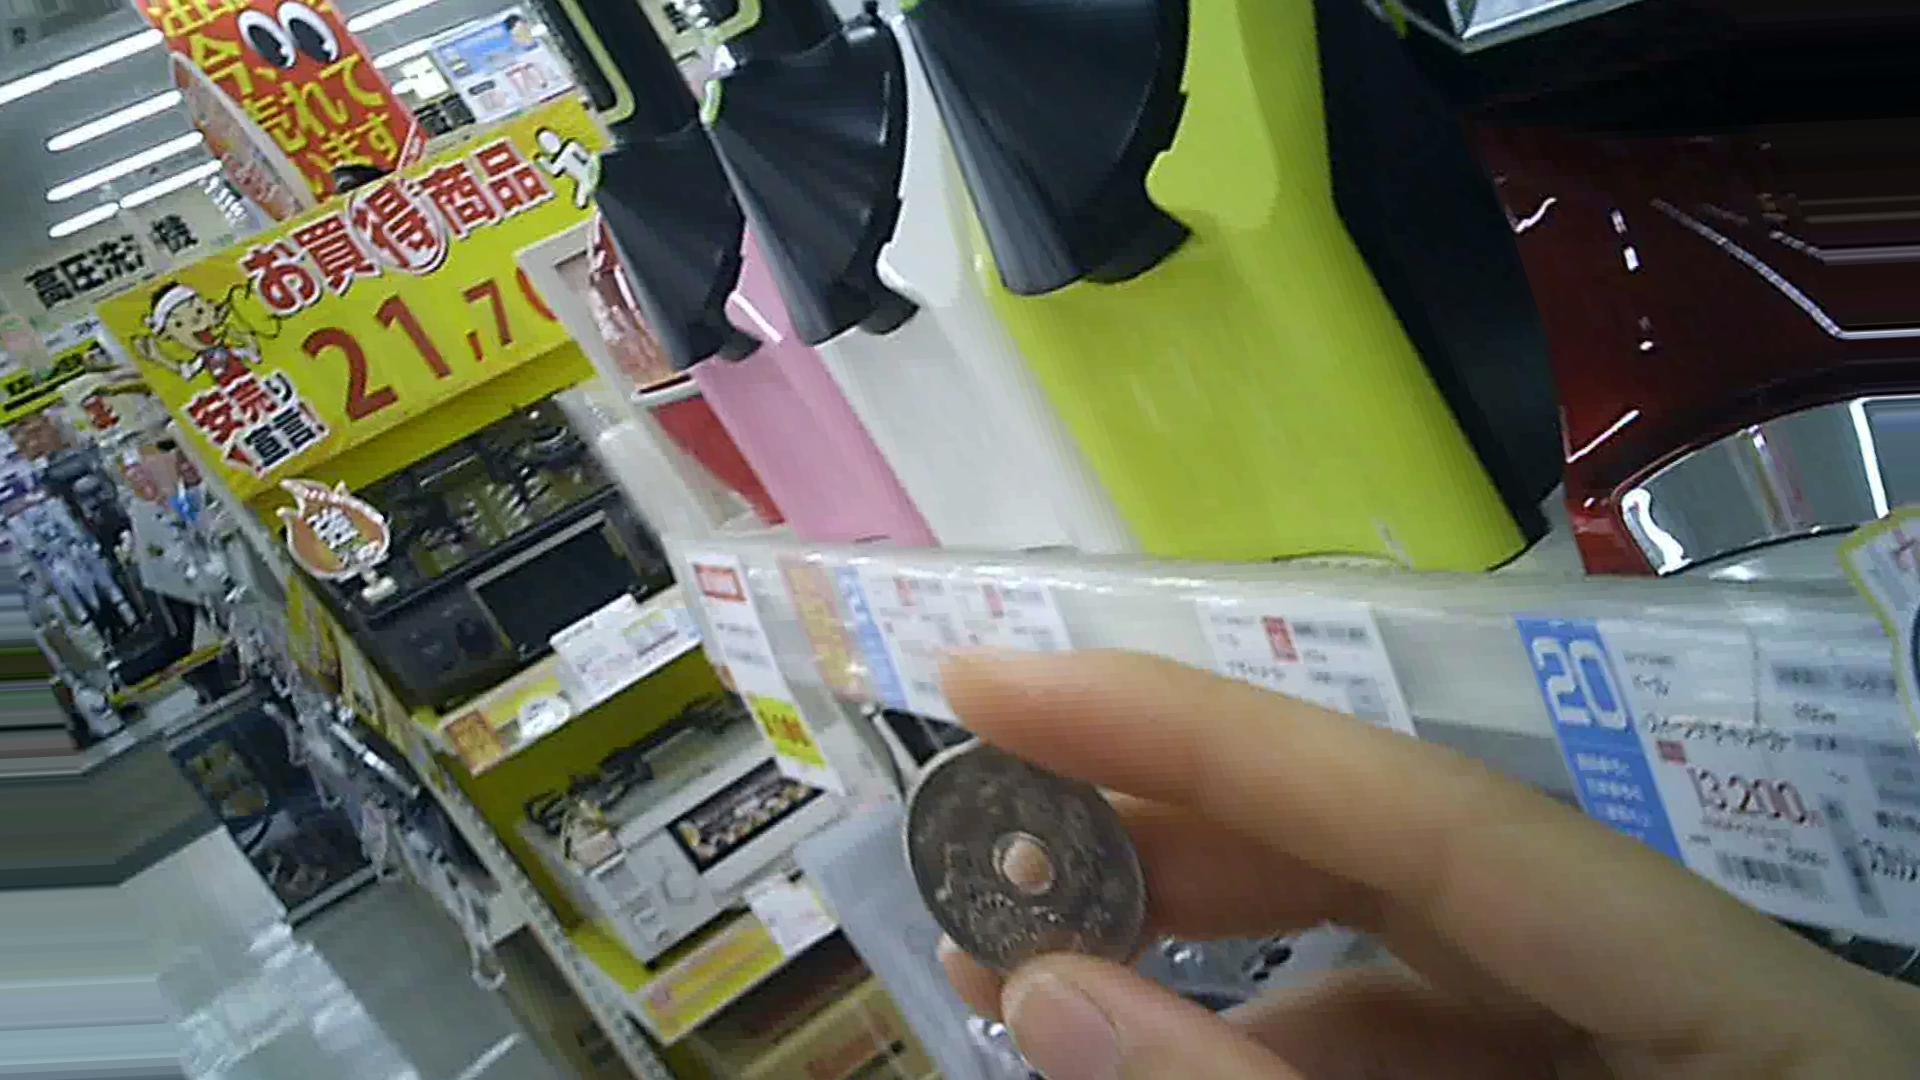50 Yen: (895, 742, 1146, 977)
